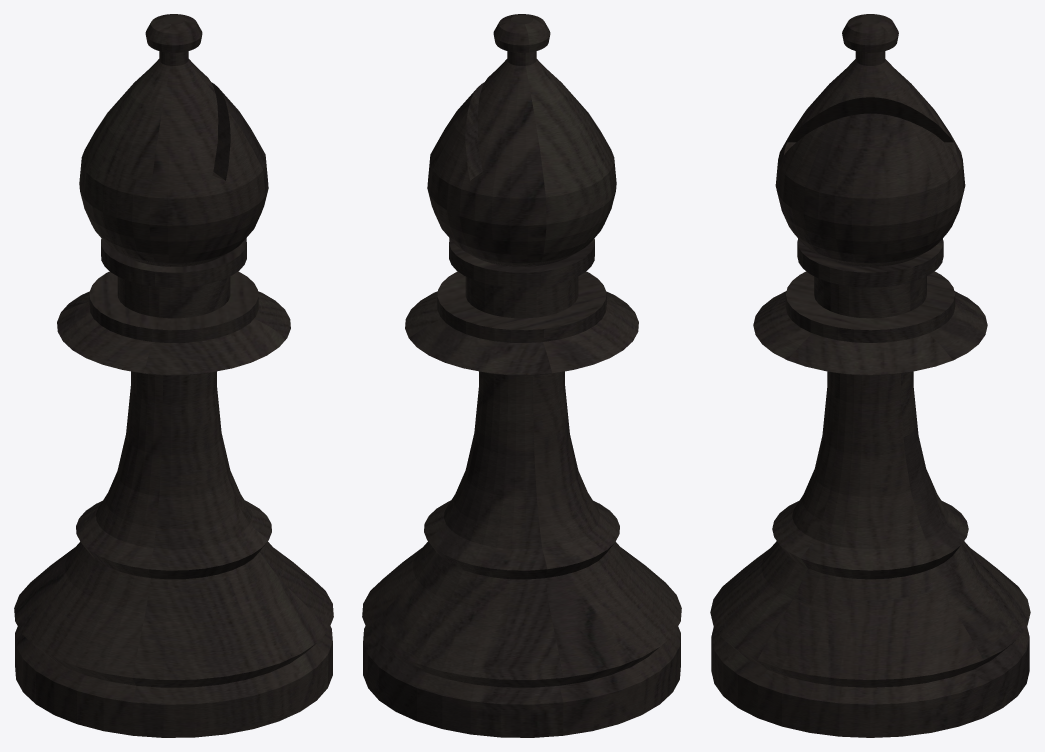
File: bishop.obj
3 views of the same model, side by side, from view 1: azimuth 30°, elevation 25°; view 2: azimuth 150°, elevation 25°; view 3: azimuth 270°, elevation 25° (orthographic).
Visible parts, largest first — view 1: Cylinder.002; view 2: Cylinder.002; view 3: Cylinder.002.
Boxes of the visible parts, <box> form: Cylinder.002: <box>14,14,333,737</box>; Cylinder.002: <box>362,14,681,737</box>; Cylinder.002: <box>710,14,1030,737</box>.
Size of the model in its own units: 2.01 by 4.51 by 2.01.
1 material, 1 textured.
